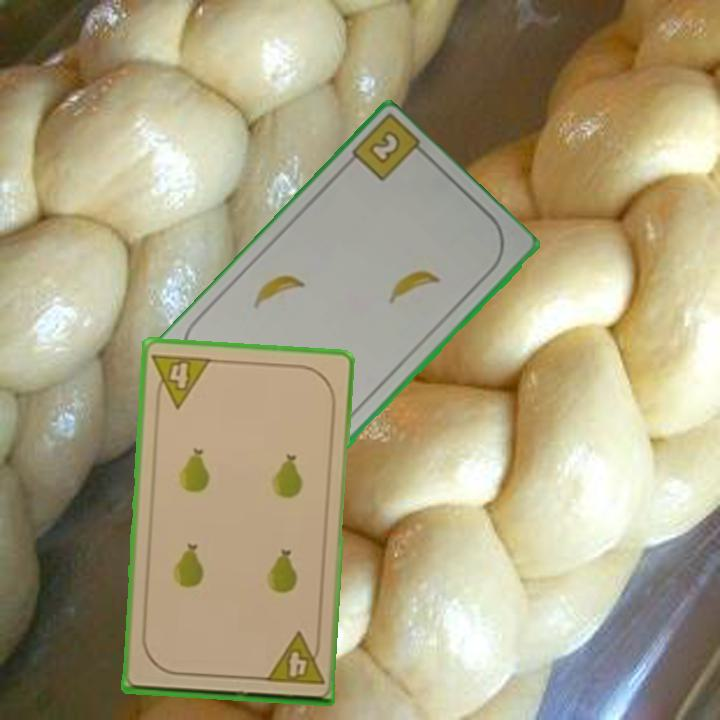2b: (365, 127, 404, 168)
4p: (149, 349, 214, 411), (261, 629, 327, 688)
